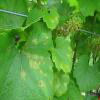grape leaf black rot: (0, 29, 55, 98), (50, 36, 73, 73), (54, 68, 70, 97), (43, 5, 60, 31)
